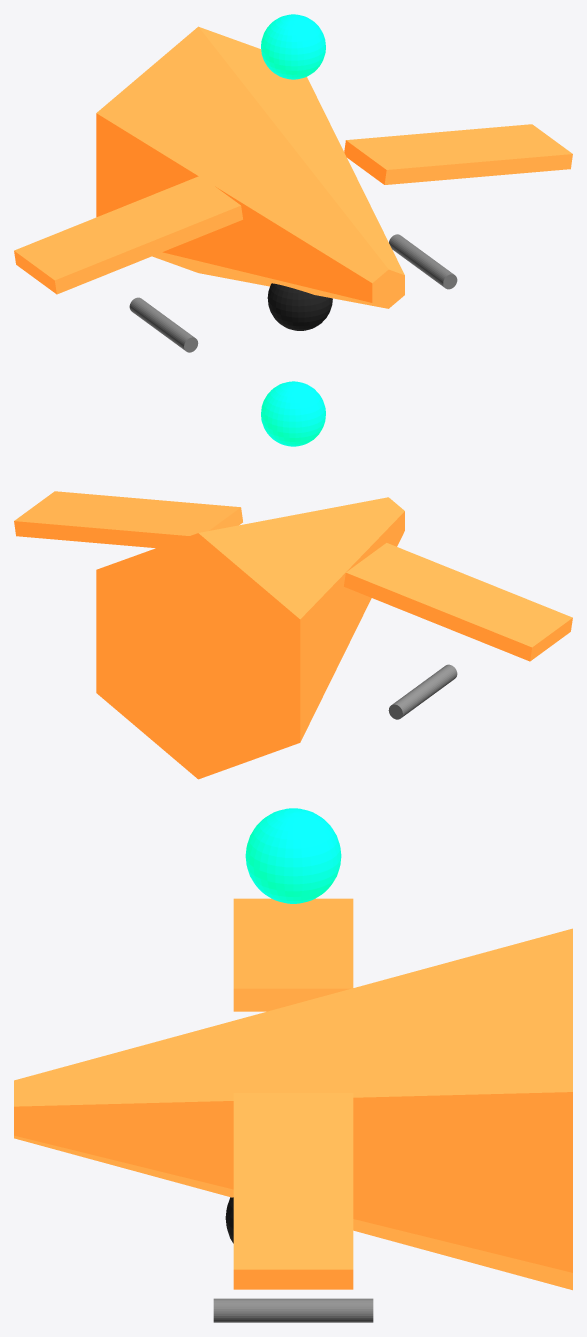
The model's file is enemy_standard.glb.
3 views of the same model, one above another, from view 1: azimuth 30°, elevation 25°; view 2: azimuth 150°, elevation 25°; view 3: azimuth 270°, elevation 25° (orthographic). The views are drawn at different scales.
Parts seen in each view (by area): view 1: StdBody, StdWing-1, StdWing1, StdEngine, StdCockpit, StdGun-1, StdGun1; view 2: StdBody, StdWing-1, StdWing1, StdEngine, StdGun-1; view 3: StdBody, StdWing1, StdWing-1, StdEngine, StdGun1.
Boxes of the visible parts, box(x1,y1,x2,y2) form: StdBody: box(96, 26, 404, 308); StdWing-1: box(14, 175, 242, 294); StdWing1: box(344, 124, 572, 184); StdEngine: box(261, 14, 325, 79); StdCockpit: box(267, 283, 332, 330); StdGun-1: box(129, 297, 198, 352); StdGun1: box(389, 234, 457, 289); StdBody: box(96, 497, 404, 779); StdWing-1: box(344, 543, 572, 661); StdWing1: box(14, 491, 242, 548); StdEngine: box(261, 381, 325, 446); StdGun-1: box(388, 664, 457, 719); StdBody: box(14, 928, 572, 1290); StdWing1: box(233, 1093, 353, 1289); StdWing-1: box(233, 898, 353, 1011); StdEngine: box(245, 808, 341, 903); StdGun1: box(213, 1298, 373, 1322).
Size of the model in its own units: 2.2 by 1.32 by 1.4.
